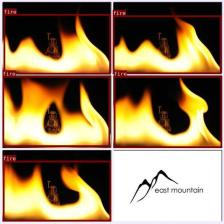fire: (113, 76, 222, 148), (2, 76, 110, 146), (2, 160, 110, 221), (3, 14, 110, 74), (113, 15, 221, 74)
